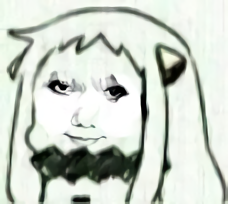dragon: (44, 72, 130, 146)
